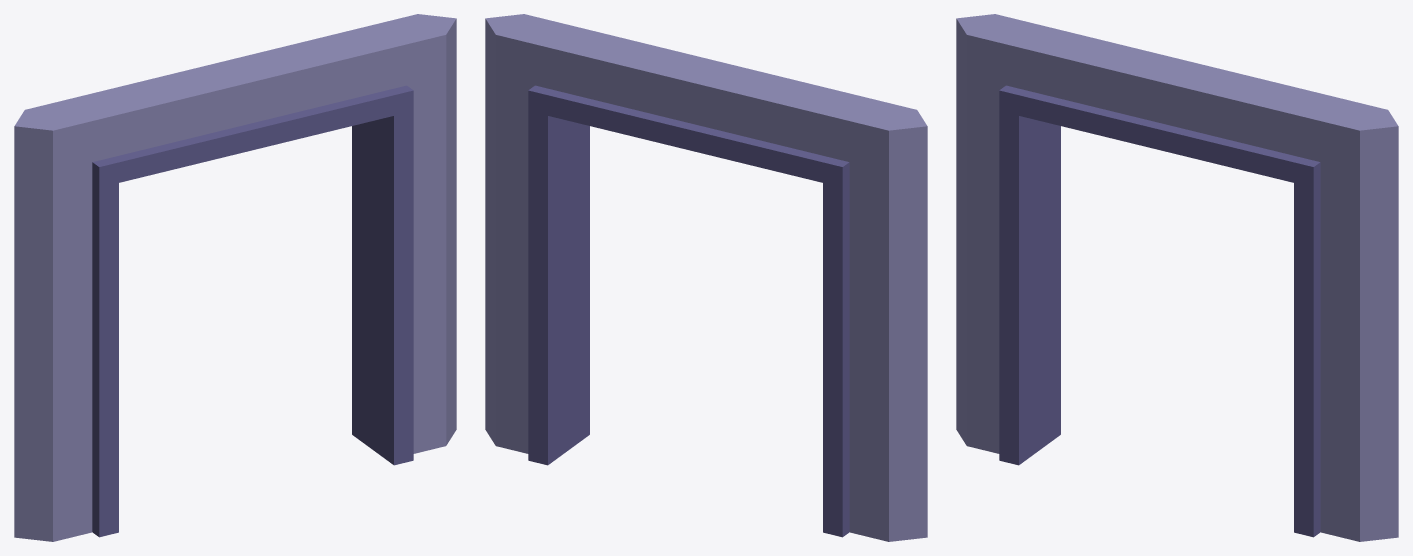
3 views of the same model, side by side, from view 1: azimuth 30°, elevation 25°; view 2: azimuth 150°, elevation 25°; view 3: azimuth 330°, elevation 25° (orthographic).
Visible parts, largest first — view 1: mergedBlocks; view 2: mergedBlocks; view 3: mergedBlocks.
Boxes of the visible parts, bbox=[...] form: mergedBlocks: bbox=[14, 14, 456, 541]; mergedBlocks: bbox=[485, 14, 927, 541]; mergedBlocks: bbox=[956, 14, 1398, 541].
Bounding box in the file's own units: 1.12 × 1 × 0.185.
